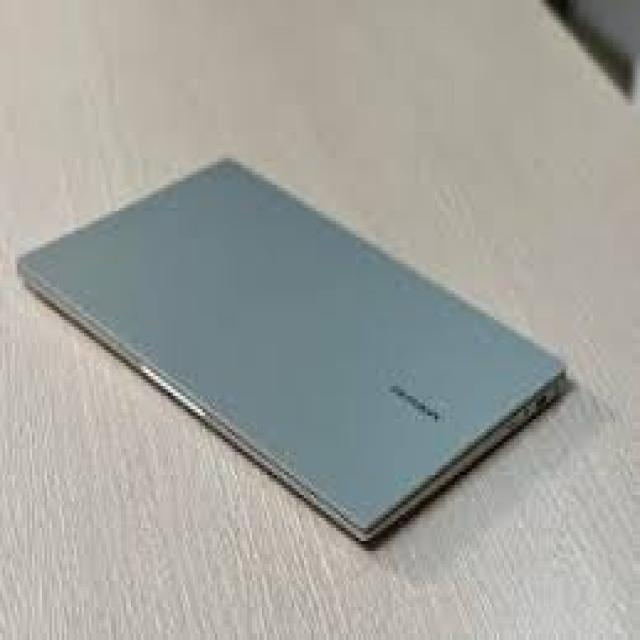laptop: (15, 152, 571, 544)
